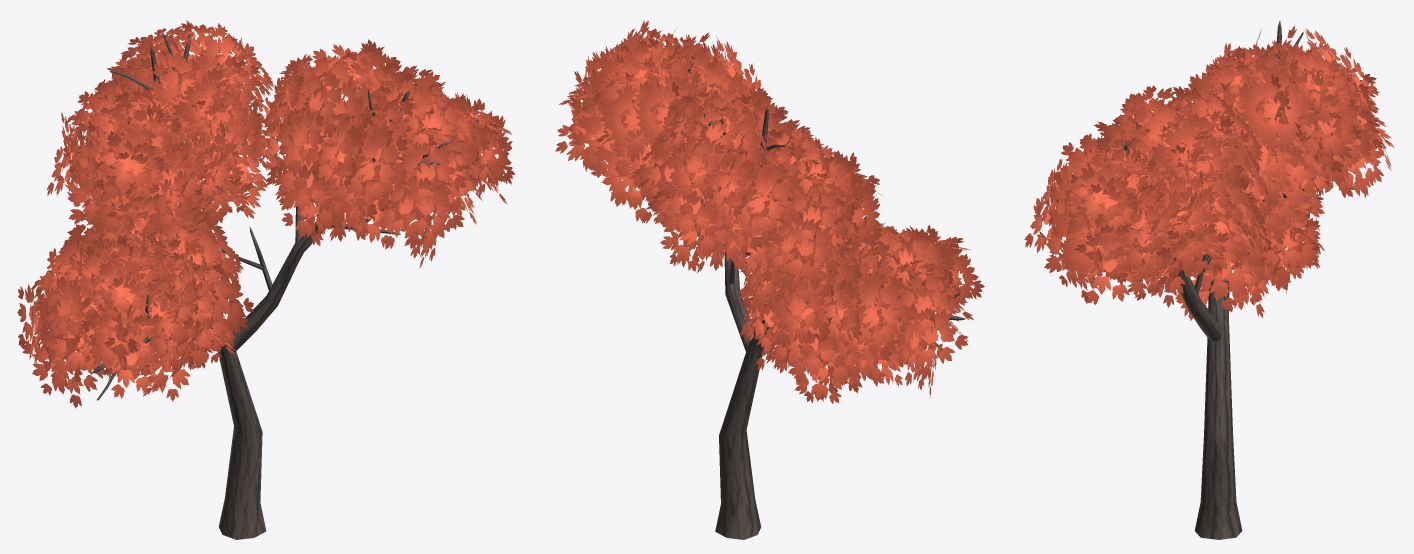
File: MapleTree_5.glb
The picture shows the model from 3 angles, left to right: view 1: azimuth 30°, elevation 25°; view 2: azimuth 150°, elevation 25°; view 3: azimuth 270°, elevation 25°; orthographic projection. The views are drawn at different scales.
Bounding box in the file's own units: 7.01 × 7.28 × 5.08.
Materials: 2 (2 with a texture image).
